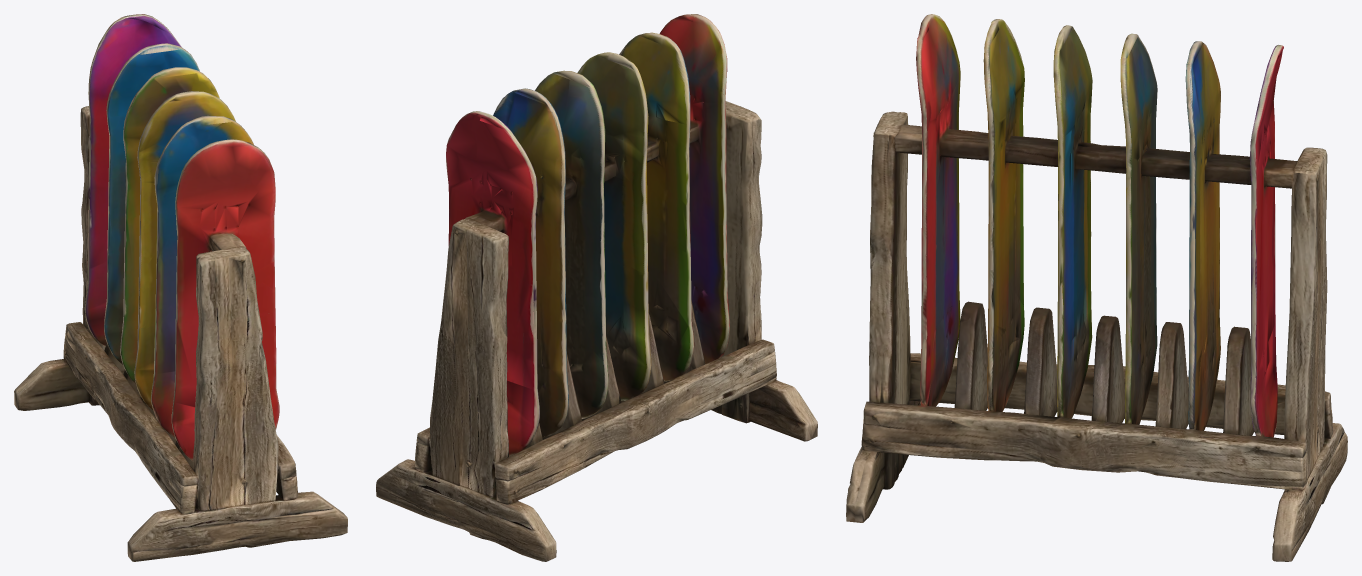
Rendered from CCG_DeckRack.fbx.
3 views of the same model, side by side, from view 1: azimuth 30°, elevation 25°; view 2: azimuth 150°, elevation 25°; view 3: azimuth 270°, elevation 25° (orthographic). The views are drawn at different scales.
Visible parts, largest first — view 1: tripo_node_1bfab722-cfbf-4317-85f8-7a8badaede56; view 2: tripo_node_1bfab722-cfbf-4317-85f8-7a8badaede56; view 3: tripo_node_1bfab722-cfbf-4317-85f8-7a8badaede56.
Boxes of the visible parts, bbox=[...] form: tripo_node_1bfab722-cfbf-4317-85f8-7a8badaede56: bbox=[14, 14, 347, 561]; tripo_node_1bfab722-cfbf-4317-85f8-7a8badaede56: bbox=[376, 14, 817, 561]; tripo_node_1bfab722-cfbf-4317-85f8-7a8badaede56: bbox=[846, 14, 1347, 561].
Size of the model in its own units: 0.6821 by 0.9792 by 0.9725.
Materials: 1 (1 with a texture image).
